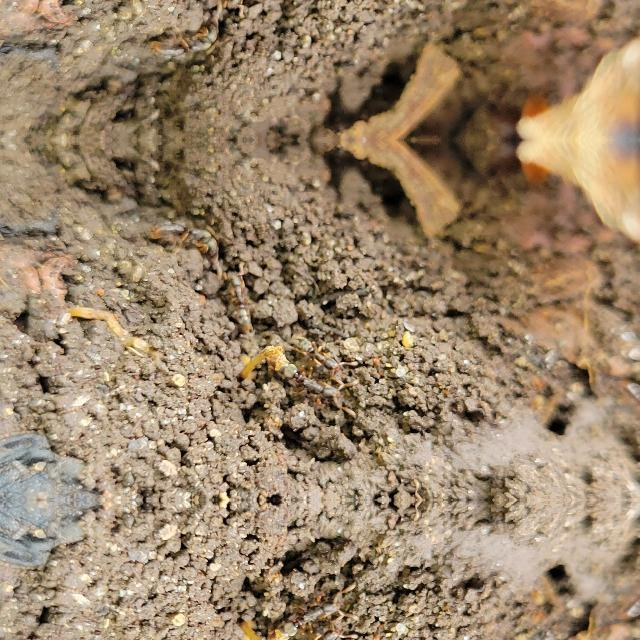Ponera: (273, 355, 357, 411), (141, 210, 225, 262), (273, 588, 357, 640), (141, 19, 225, 70), (216, 260, 268, 336), (282, 320, 348, 368), (216, 0, 268, 20)
